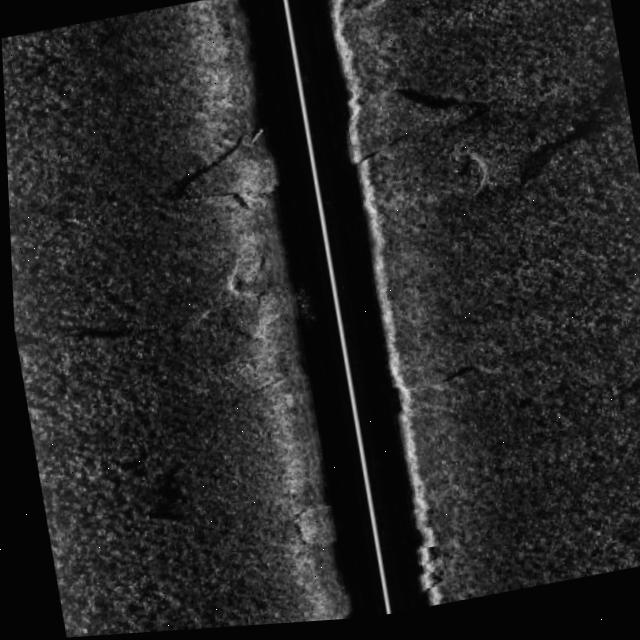mine: (241, 124, 268, 151)
